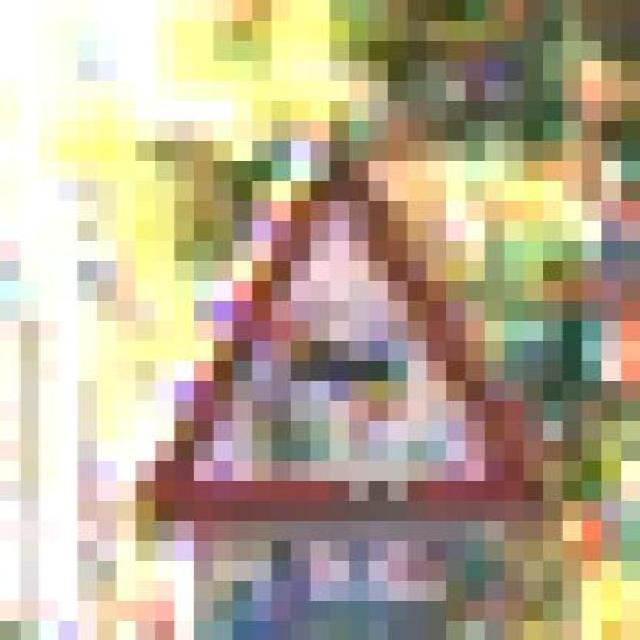Slippery Road Ahead: (116, 120, 562, 520)
